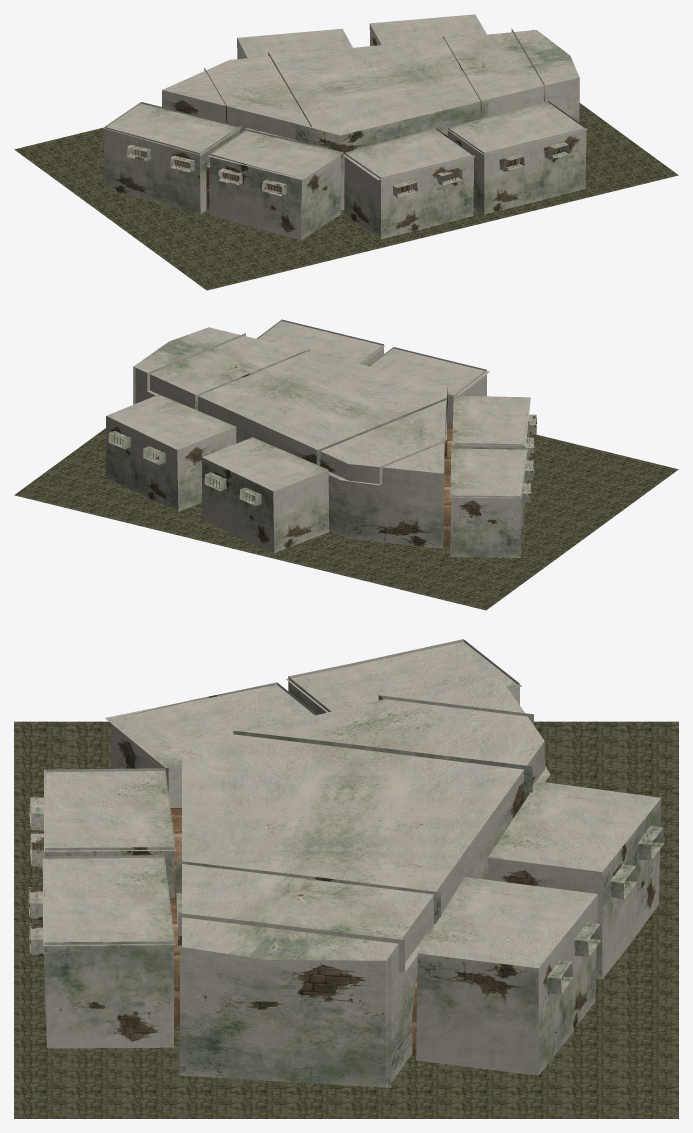
File: pir_m_int_spn_jail.fbx
3 views of the same model, one above another, from view 1: azimuth 30°, elevation 25°; view 2: azimuth 150°, elevation 25°; view 3: azimuth 270°, elevation 25° (orthographic). The views are drawn at different scales.
Visible parts, largest first — view 1: ceiling_main, floor, walls, pasted__pPlane76, pasted__pPlane74, pasted__pPlane81, pasted__pPlane68, ceiling80, ceiling77, ceiling78, ceiling79, ceiling75 (+1 smaller); view 2: floor, ceiling_main, walls, pasted__pPlane82, pasted__pPlane83, pasted__pPlane68, ceiling78, ceiling77, ceiling75, ceiling74, ceiling80, ceiling79 (+5 smaller); view 3: ceiling_main, floor, stair_structure, pasted__pPlane83, pasted__pPlane81, ceiling80, ceiling75, ceiling79, ceiling74, pasted__pPlane82, ceiling78, ceiling77 (+9 smaller).
Boxes of the visible parts, x1=… form: ceiling_main: x1=162, y1=30, x2=579, y2=135; floor: x1=14, y1=103, x2=678, y2=290; walls: x1=162, y1=77, x2=579, y2=210; pasted__pPlane76: x1=344, y1=128, x2=474, y2=239; pasted__pPlane74: x1=210, y1=129, x2=340, y2=240; pasted__pPlane81: x1=448, y1=100, x2=586, y2=214; pasted__pPlane68: x1=104, y1=102, x2=239, y2=213; ceiling80: x1=447, y1=102, x2=587, y2=154; ceiling77: x1=103, y1=103, x2=240, y2=155; ceiling78: x1=208, y1=131, x2=343, y2=179; ceiling79: x1=342, y1=129, x2=475, y2=180; ceiling75: x1=370, y1=14, x2=486, y2=44; floor: x1=14, y1=428, x2=678, y2=610; ceiling_main: x1=133, y1=327, x2=447, y2=473; walls: x1=133, y1=367, x2=447, y2=548; pasted__pPlane82: x1=202, y1=457, x2=328, y2=552; pasted__pPlane83: x1=106, y1=416, x2=236, y2=511; pasted__pPlane68: x1=450, y1=447, x2=526, y2=557; ceiling78: x1=452, y1=395, x2=530, y2=445; ceiling77: x1=450, y1=448, x2=527, y2=498; ceiling75: x1=106, y1=394, x2=235, y2=449; ceiling74: x1=202, y1=437, x2=328, y2=491; ceiling80: x1=258, y1=321, x2=384, y2=364; ceiling79: x1=370, y1=348, x2=489, y2=397; ceiling_main: x1=182, y1=672, x2=544, y2=960; floor: x1=14, y1=721, x2=678, y2=1118; stair_structure: x1=180, y1=946, x2=391, y2=1087; pasted__pPlane83: x1=416, y1=894, x2=597, y2=1075; pasted__pPlane81: x1=44, y1=855, x2=173, y2=1048; ceiling80: x1=42, y1=856, x2=175, y2=945; ceiling75: x1=417, y1=877, x2=597, y2=968; ceiling79: x1=44, y1=769, x2=175, y2=851; ceiling74: x1=488, y1=781, x2=660, y2=871; pasted__pPlane82: x1=487, y1=798, x2=661, y2=979; ceiling78: x1=105, y1=685, x2=314, y2=767; ceiling77: x1=286, y1=642, x2=521, y2=712.
Size of the model in its own units: 13278 by 2117 by 9394.
Materials: 4 (4 with a texture image).
